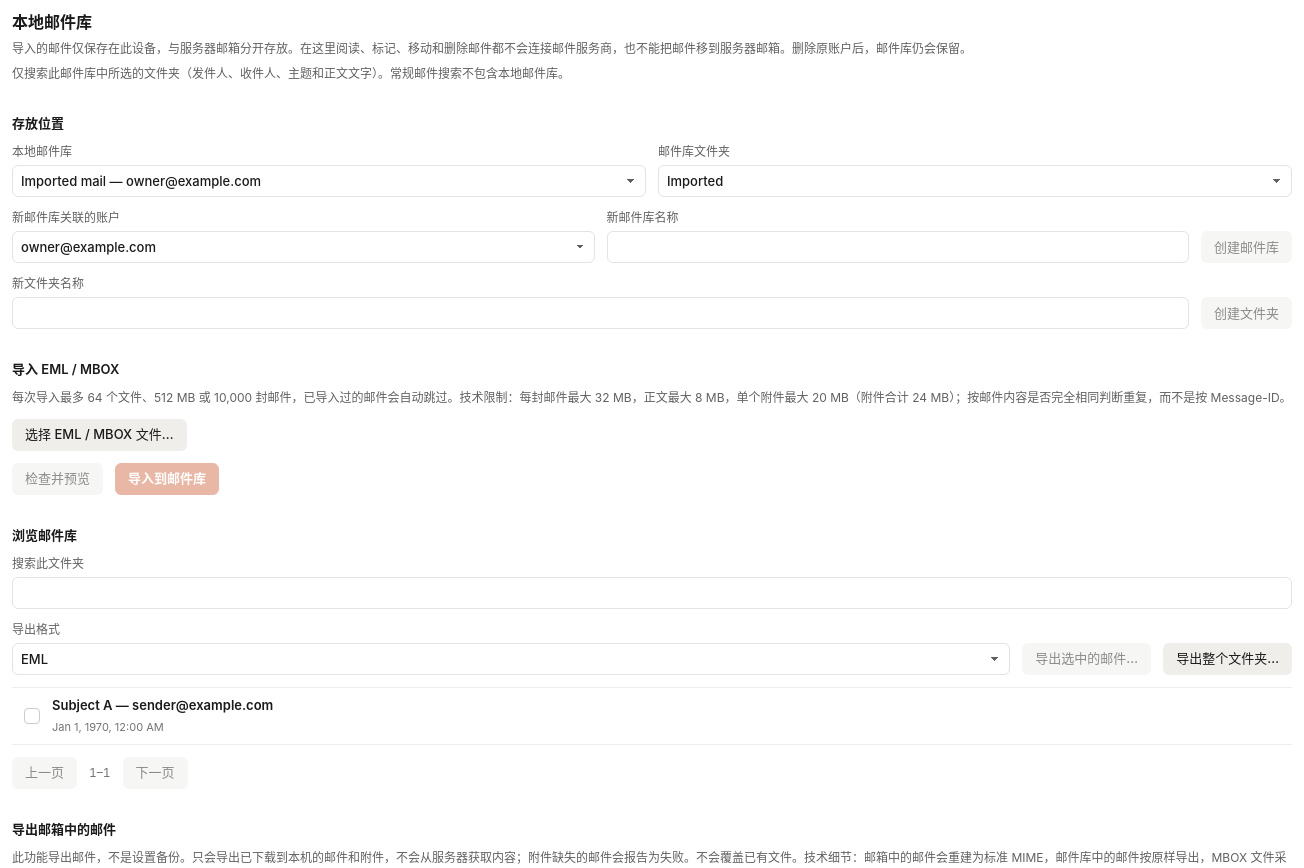
Scenario: Local mail archive browser › shows translated Chinese scope, errors and progress, and cancels only its active job
Check: the button "Subject A — sender@example.com Jan 1, 1970, 12:00 AM" is shown, box [52,688,1292,744]
Check: the text "导入的邮件仅保存在此设备，与服务器邮箱分开存放。在这里阅读、标记、移动和删除邮件都不会连接邮件服务商，也不能把邮件移到服务器邮箱。删除原账户后，邮件库仍会保留。" is shown, box [12,40,972,57]
Click the button "选择 EML / MBOX 文件…" at (99, 435), box [12,419,186,451]
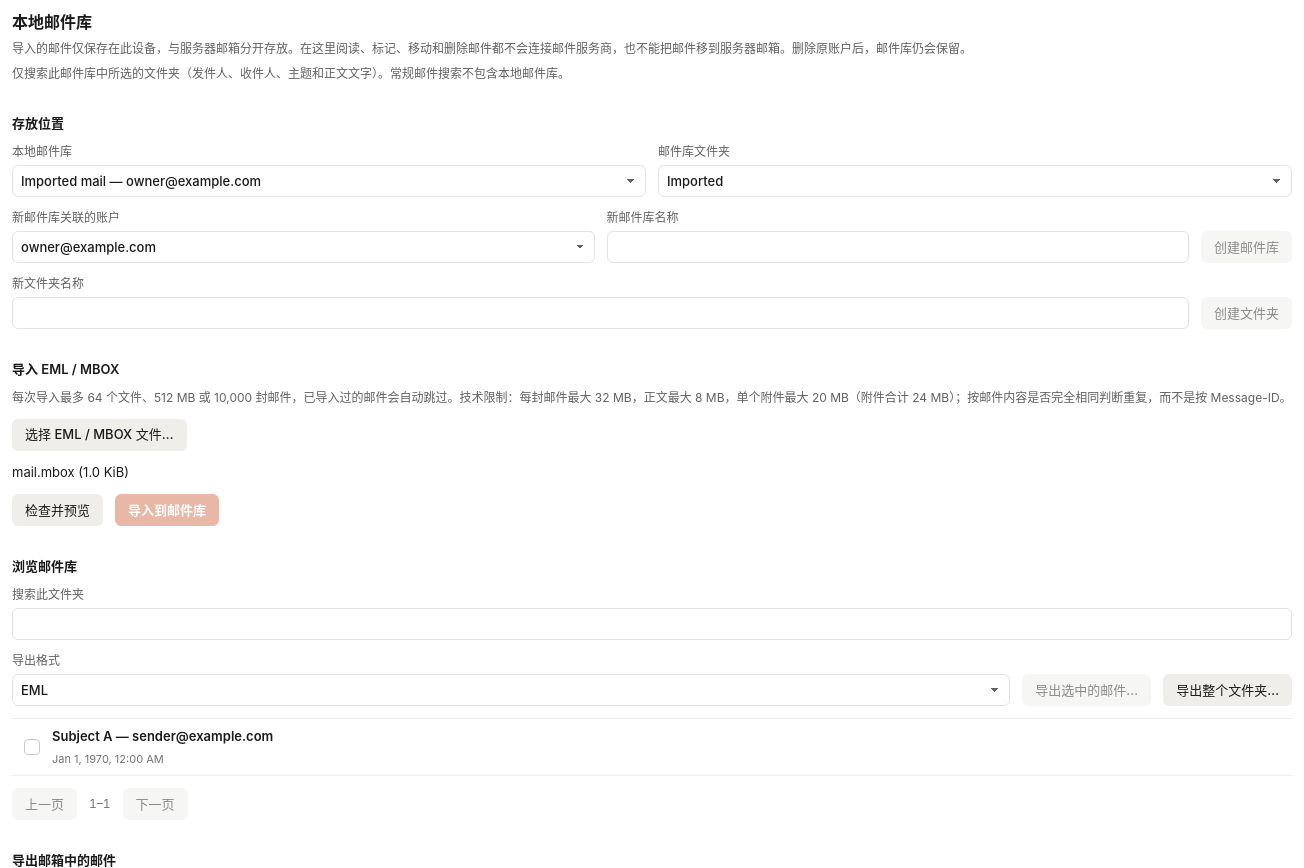
Check: the list item "mail.mbox (1.0 KiB)" is shown, box [12,464,129,480]
Click the button "检查并预览" at (58, 510), box [12,494,103,526]
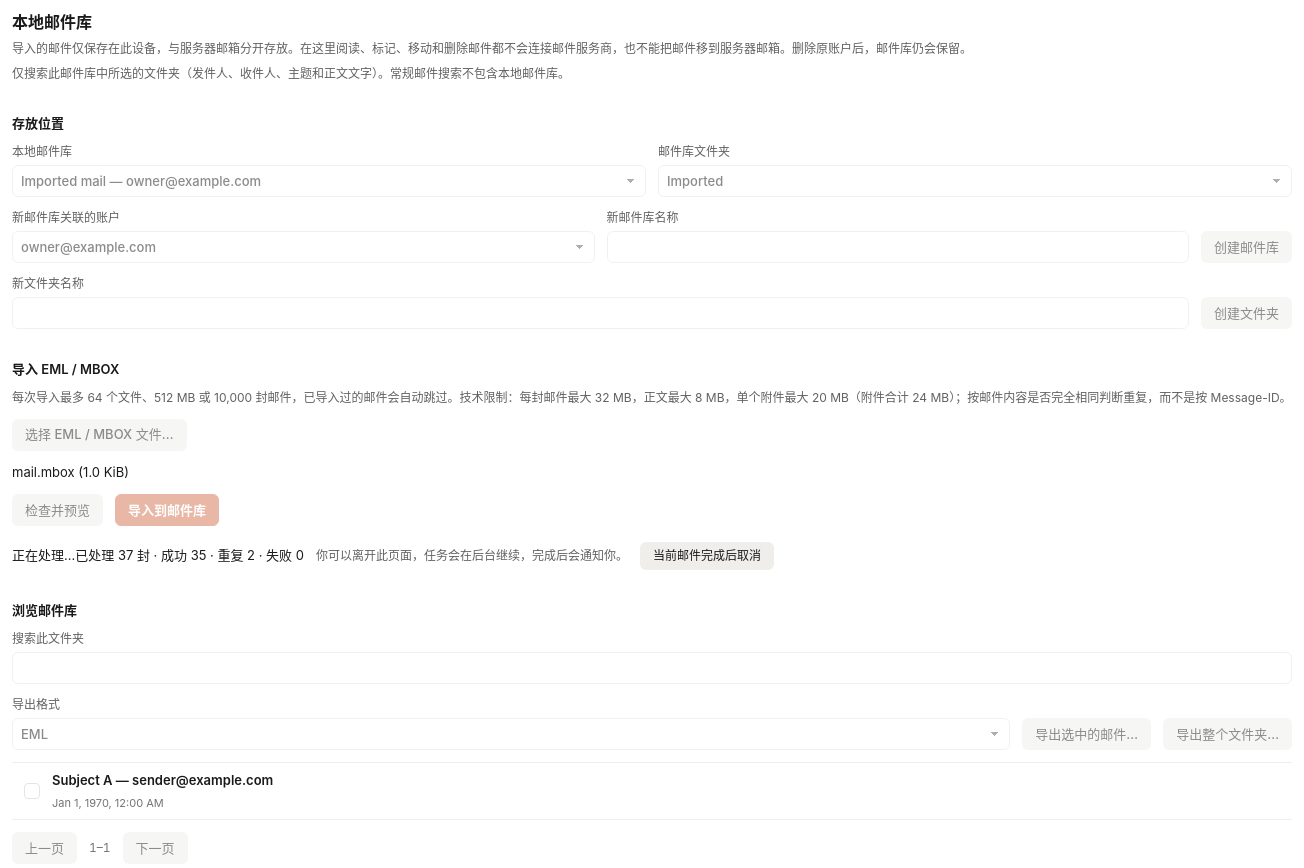
Check: the text "正在处理…已处理 37 封 · 成功 35 · 重复 2 · 失败 0" is shown, box [12,546,304,566]
Check: the text "你可以离开此页面，任务会在后台继续，完成后会通知你。" is shown, box [316,548,628,565]
Click the button "当前邮件完成后取消" at (707, 556), box [640,542,774,570]
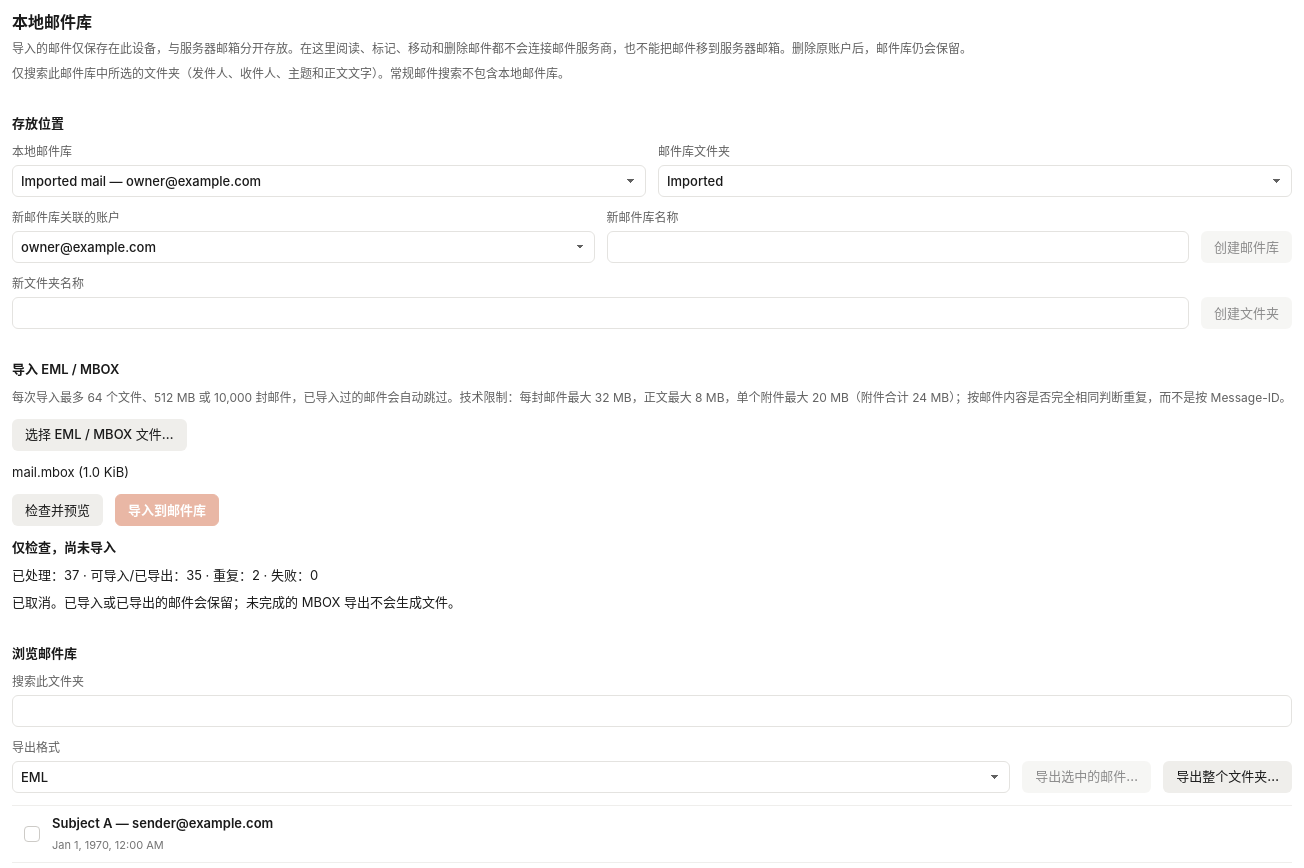
Check: the button "导入到邮件库" is disabled, box [115,494,219,526]
Check: the text "已取消。已导入或已导出的邮件会保留；未完成的 MBOX 导出不会生成文件。" is shown, box [12,594,461,610]
